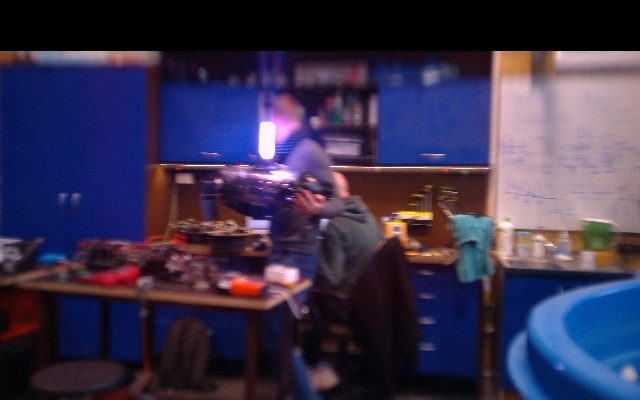white: (257, 121, 276, 159)
